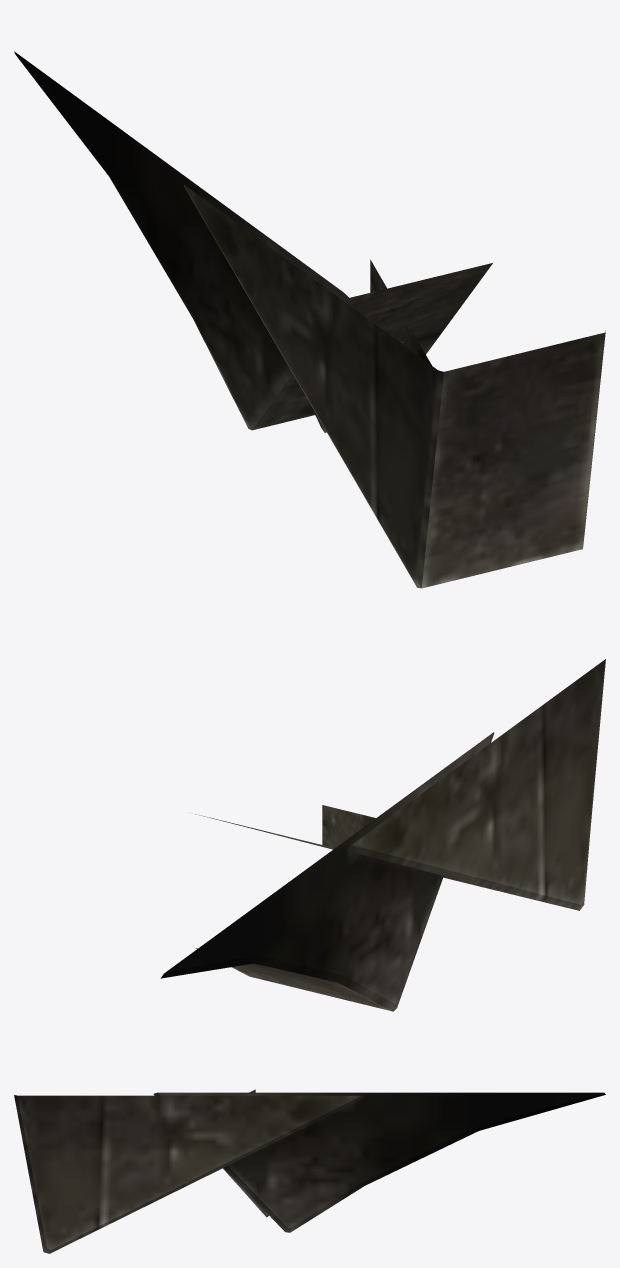
3 views of the same model, one above another, from view 1: azimuth 30°, elevation 25°; view 2: azimuth 150°, elevation 25°; view 3: azimuth 270°, elevation 25° (orthographic). The views are drawn at different scales.
Visible parts, largest first — view 1: model_object31; view 2: model_object31; view 3: model_object31.
Part boxes in pixels (x1=…): model_object31: x1=14, y1=51, x2=605, y2=588; model_object31: x1=160, y1=659, x2=605, y2=1011; model_object31: x1=14, y1=1089, x2=605, y2=1253.
Bounding box in the file's own units: 2.01 × 2.69 × 9.04.
Materials: 1 (1 with a texture image).
